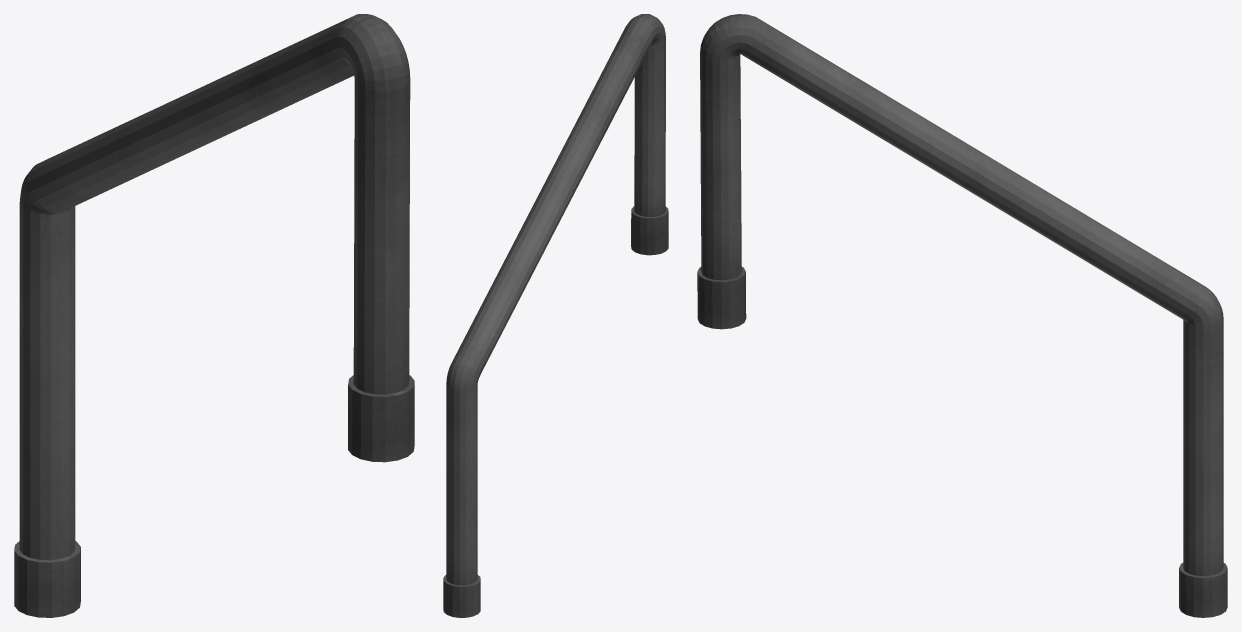
File: barierkaschody.obj
3 views of the same model, side by side, from view 1: azimuth 30°, elevation 25°; view 2: azimuth 150°, elevation 25°; view 3: azimuth 270°, elevation 25° (orthographic). The views are drawn at different scales.
Parts seen in each view (by area): view 1: Barierka.NR1.012_Cylinder; view 2: Barierka.NR1.012_Cylinder; view 3: Barierka.NR1.012_Cylinder.
Boxes of the visible parts, x1,y1,x2,y2 form: Barierka.NR1.012_Cylinder: (14,14,414,617); Barierka.NR1.012_Cylinder: (443,14,668,617); Barierka.NR1.012_Cylinder: (697,14,1227,617).
Bounding box in the file's own units: 0.384 × 5.17 × 4.2.
1 material, 1 textured.
